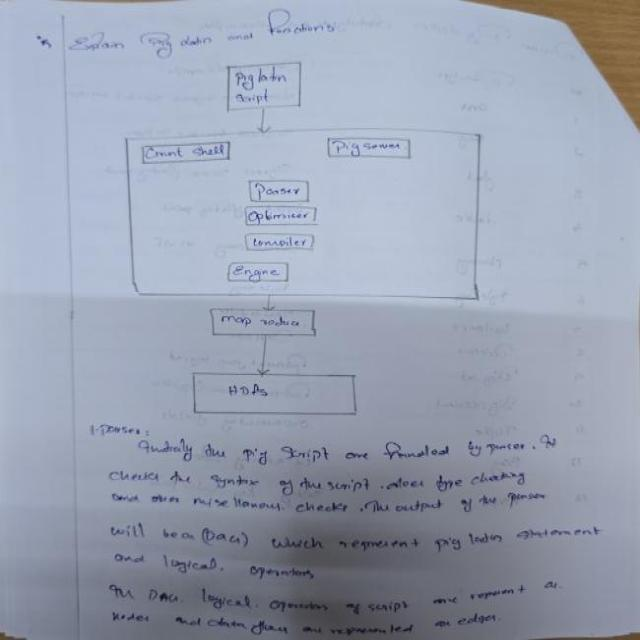Figure Detection - v3 Dataset Version2: (100, 55, 508, 422)
